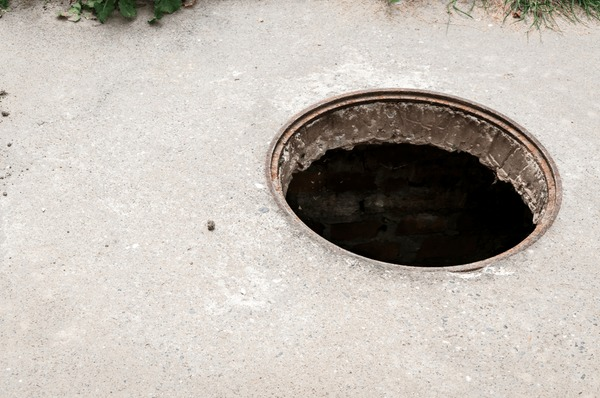open_manhole: (266, 85, 563, 272)
